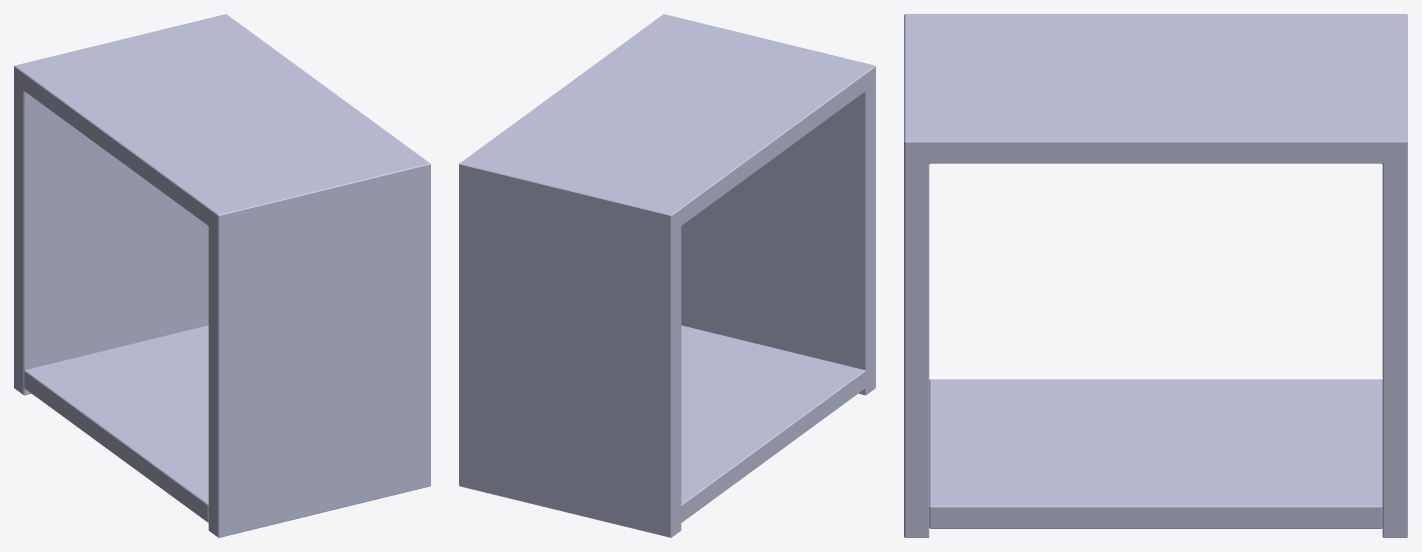
The model's file is SM_stand_1.fbx.
3 views of the same model, side by side, from view 1: azimuth 30°, elevation 25°; view 2: azimuth 150°, elevation 25°; view 3: azimuth 270°, elevation 25° (orthographic). The views are drawn at different scales.
Visible parts, largest first — view 1: SM_stand_1; view 2: SM_stand_1; view 3: SM_stand_1.
Part boxes in pixels (x1,y1,x2,y2): SM_stand_1: (14, 14, 430, 537); SM_stand_1: (459, 14, 875, 537); SM_stand_1: (904, 14, 1407, 537).
Size of the model in its own units: 60 by 87 by 100.
